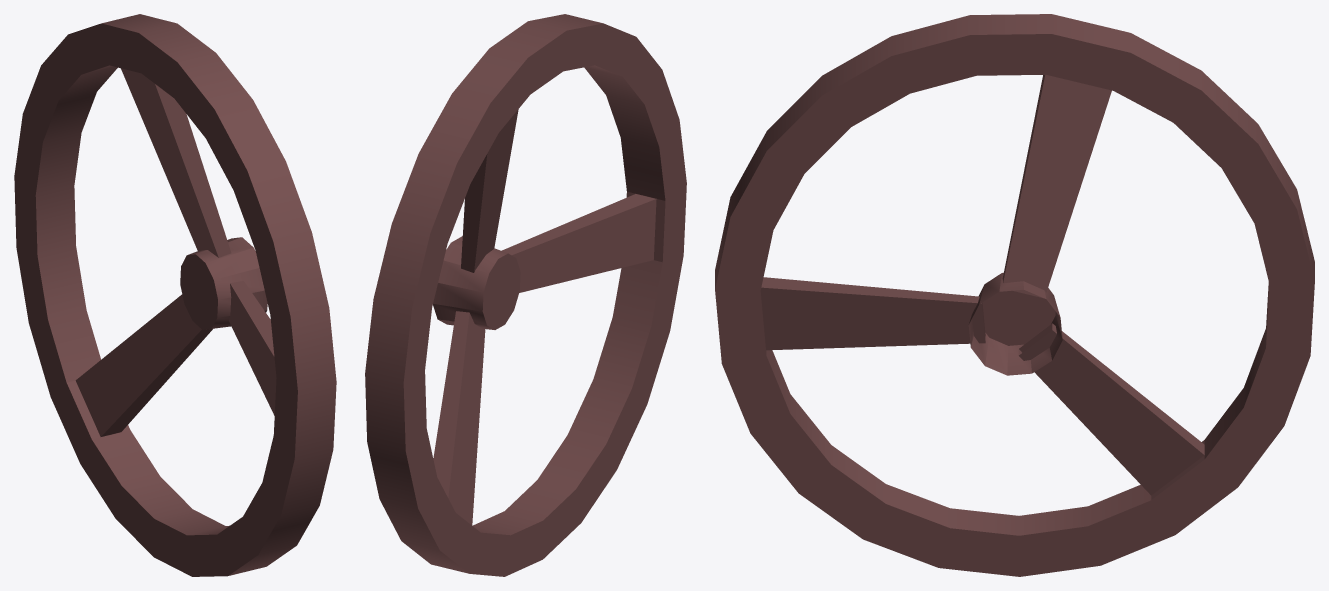
File: velve1.fbx
3 renders of one model, left to right at view 1: azimuth 30°, elevation 25°; view 2: azimuth 150°, elevation 25°; view 3: azimuth 270°, elevation 25°, orthographic. The views are drawn at different scales.
Visible parts, largest first — view 1: velve:polySurface1, velve:polySurface3, velve:polySurface4, velve:polySurface5, velve:polySurface2; view 2: velve:polySurface1, velve:polySurface2, velve:polySurface3, velve:polySurface5, velve:polySurface4; view 3: velve:polySurface1, velve:polySurface2, velve:polySurface4, velve:polySurface3, velve:polySurface5.
Boxes of the visible parts, x1,y1,x2,y2 form: velve:polySurface1: [14, 14, 336, 576]; velve:polySurface3: [75, 294, 212, 436]; velve:polySurface4: [121, 68, 231, 257]; velve:polySurface5: [180, 237, 267, 329]; velve:polySurface2: [229, 281, 276, 415]; velve:polySurface1: [365, 14, 686, 576]; velve:polySurface2: [501, 194, 656, 292]; velve:polySurface3: [433, 311, 485, 525]; velve:polySurface5: [433, 236, 520, 329]; velve:polySurface4: [461, 109, 518, 272]; velve:polySurface1: [715, 14, 1314, 576]; velve:polySurface2: [760, 277, 985, 350]; velve:polySurface4: [1002, 75, 1111, 298]; velve:polySurface3: [1018, 323, 1204, 495]; velve:polySurface5: [968, 272, 1062, 375].
Size of the model in its own units: 12 by 65.22 by 65.31.
